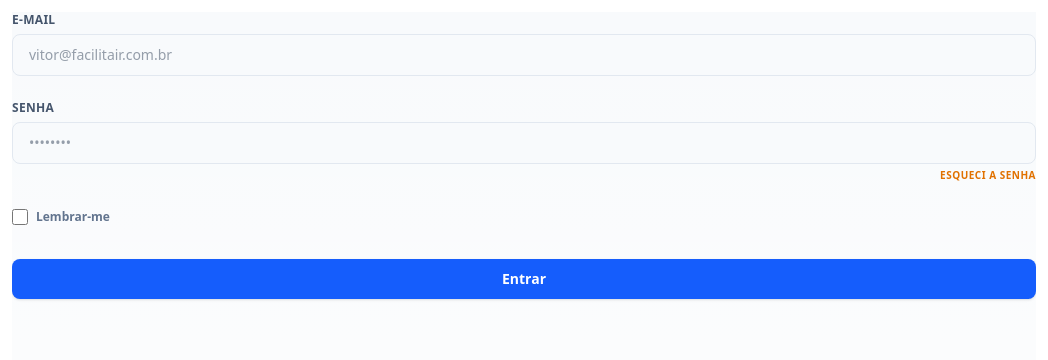
Test case: LoginForm › deve exibir erro ao tentar submeter com campos vazios
Step 1. Click the button "Entrar" → (524, 279), box [12,259,1036,299]
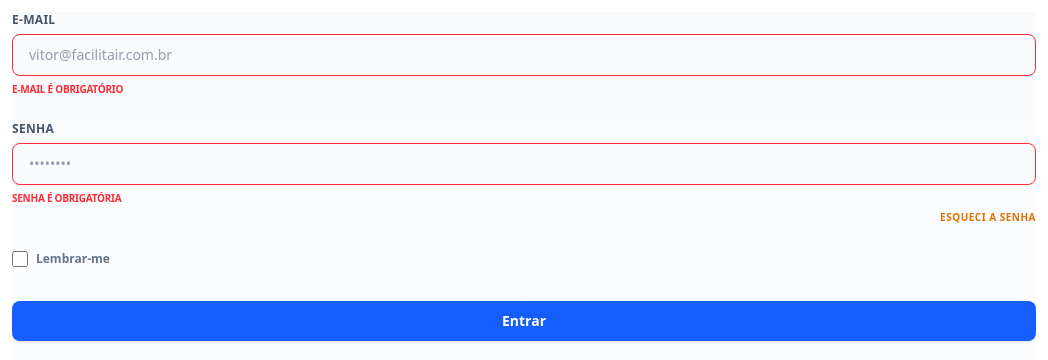
Result: the text "E-mail é obrigatório" is shown at [12,82,123,96]
Result: the text "Senha é obrigatória" is shown at [12,191,121,205]
